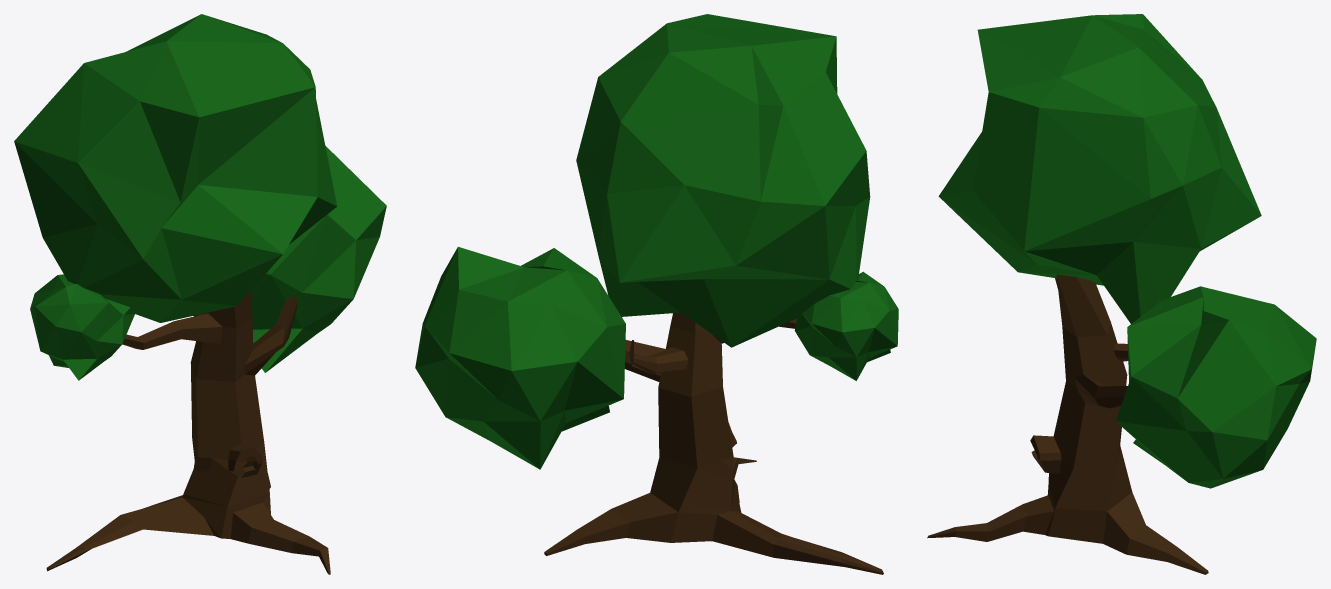
The model's file is tree02.fbx.
3 views of the same model, side by side, from view 1: azimuth 30°, elevation 25°; view 2: azimuth 150°, elevation 25°; view 3: azimuth 270°, elevation 25° (orthographic). The views are drawn at different scales.
Visible parts, largest first — view 1: Cylinder; view 2: Cylinder; view 3: Cylinder.
Boxes of the visible parts, x1,y1,x2,y2 form: Cylinder: (14, 14, 386, 574); Cylinder: (415, 14, 898, 574); Cylinder: (927, 14, 1316, 574).
Size of the model in its own units: 1392 by 1652 by 1193.
